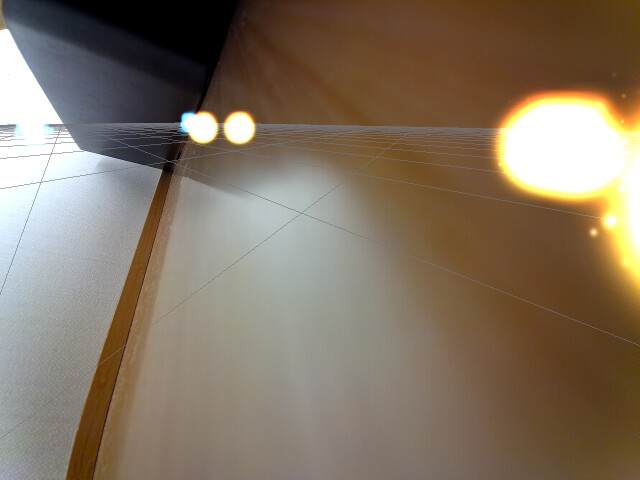firebig: (460, 56, 615, 200)
